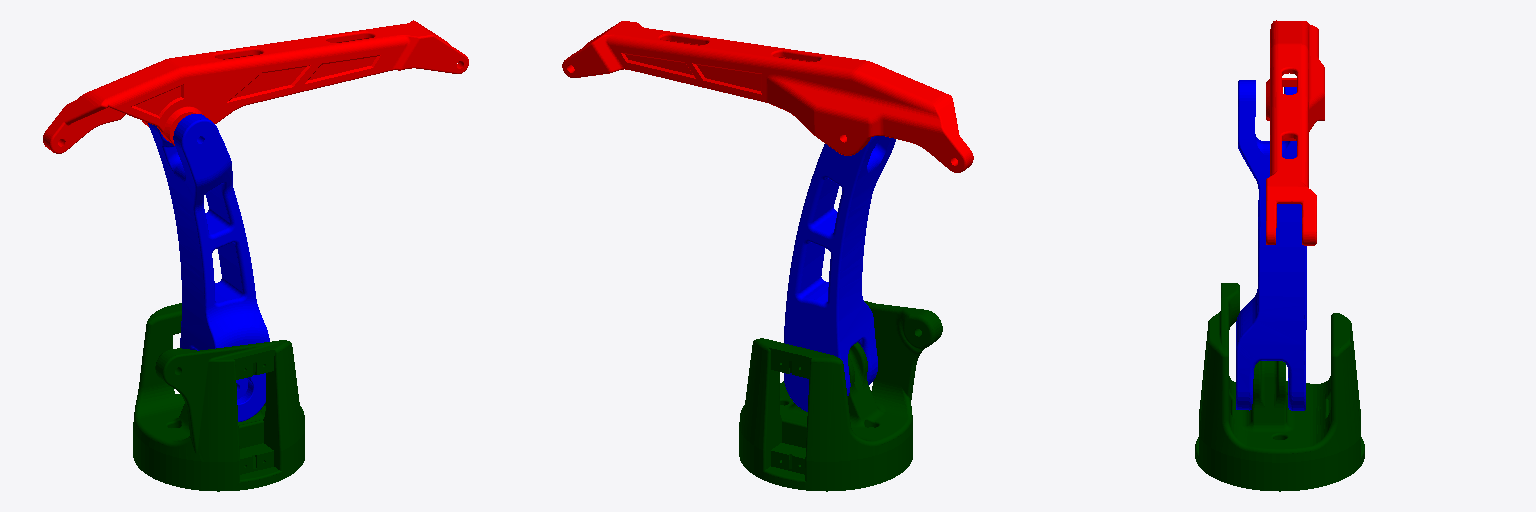
URDF robot description (sibot):
<?xml version="1.0"?>

<robot
  name="sibot">

<!-- BASE LINK -->
  <link
    name="base_link">
    <visual>
      <origin
        xyz="0 0 0"
        rpy="0 0 0" />
      <geometry>
        <mesh
          filename="package://sibot_urdf/meshes/base_link.STL" />
      </geometry>
      <material
        name="">
        <color
          rgba="0 0.275 0 1" />
      </material>
    </visual>
  </link>

<!-- JOINT 1 -->
  <joint
    name="joint_1"
    type="revolute">
    <origin
      xyz="0 0 0.05"
      rpy="0 0 0" />
    <parent
      link="base_link" />
    <child
      link="link_1" />
    <axis
      xyz="0 0 1" />
    <limit
      effort="0"
      velocity="0"
      lower="-0.7854" upper="0.7854"/>
      <!--   [-45,45]-->
  </joint>

<!-- LINK 1 -->
  <link
    name="link_1">
    <visual>
      <origin
        xyz="0 -0.04 0"
        rpy="0 0 0" />
      <geometry>
        <mesh
          filename="package://sibot_urdf/meshes/link_1.STL" />
      </geometry>
      <material
        name="">
        <color
          rgba="0 0.275 0 1" />
      </material>
    </visual>
  </link>

<!-- JOINT 2 -->
  <joint
    name="joint_2"
    type="revolute">
    <origin
      xyz="0 -0.005 0.035"
      rpy="-1.578 0 0" />
    <parent
      link="link_1" />
    <child
      link="link_2" />
    <axis
      xyz="0 0 1" />
    <limit
      effort="0"
      velocity="0"
      lower="-0.6109" upper="0.9599"/>
      <!--   [-35,55]-->
  </joint>

<!-- LINK 2-->
  <link
    name="link_2">
    <visual>
      <origin
        xyz="0 0 -0.0075"
        rpy="0 0 0" />
      <geometry>
        <mesh
          filename="package://sibot_urdf/meshes/link_2.STL" />
      </geometry>
      <material
        name="">
        <color
          rgba="0 0 1 1" />
      </material>
    </visual>
  </link>

<!-- JOINT 3 -->
  <joint
    name="joint_3"
    type="revolute">
    <origin
      xyz="-0.021 -0.133 0.0105"
      rpy="0 0 0" />
    <parent
      link="link_2" />
    <child
      link="link_3" />
    <axis
      xyz="0 0 1" />
    <limit
      effort="0"
      velocity="0"
      lower="-1.2217" upper="0.3491"/>
      <!--   [-70,20]-->
  </joint>

<!-- LINK 3 -->
   <link
    name="link_3">
    <visual>
      <origin
        xyz="0 0 -0.0335"
        rpy="0 0 -0.1309" />
      <geometry>
        <mesh
          filename="package://sibot_urdf/meshes/link_3.STL" />
      </geometry>
      <material
        name="">
        <color
          rgba="1 0 0 1" />
      </material>
    </visual>
  </link>

</robot>

--- Facts derived from the render (not from the file) ---
The picture shows the robot from 3 angles, left to right: view 1: azimuth 30°, elevation 25°; view 2: azimuth 150°, elevation 25°; view 3: azimuth 270°, elevation 25°; orthographic projection.
Robot: sibot — 4 links, 3 joints (3 revolute); root link base_link; default pose: all joints at 0.
Visible links, largest first — view 1: link_1, link_3, link_2; view 2: link_1, link_3, link_2; view 3: link_1, link_2, link_3.
Boxes of the visible links, x1,y1,x2,y2 form: link_1: (133, 303, 304, 491); link_3: (43, 20, 468, 153); link_2: (148, 114, 269, 421); link_1: (739, 301, 942, 491); link_3: (562, 21, 973, 172); link_2: (784, 136, 895, 411); link_1: (1195, 283, 1364, 491); link_2: (1236, 80, 1306, 410); link_3: (1266, 20, 1324, 245).
Bounding box of the posed robot: 0.215 × 0.08 × 0.204 m (x, y, z).
3 mesh visuals loaded from 4 distinct referenced files (3 binary STL); not drawn: 1 (reference not matched to a file when rendering).